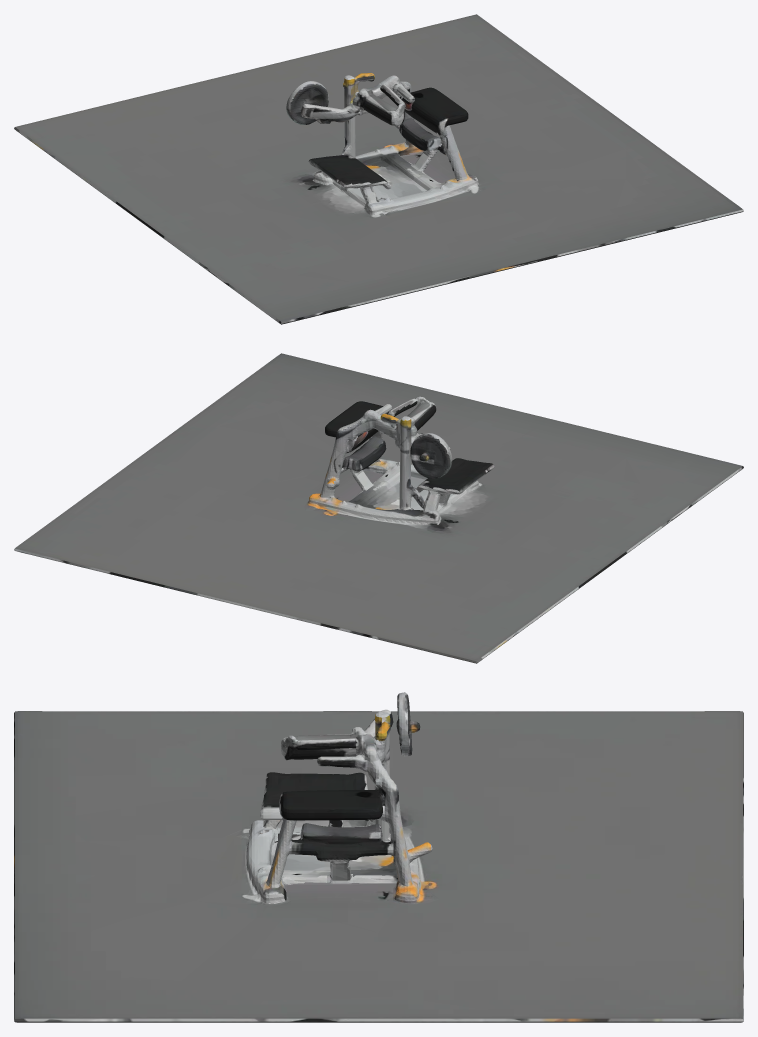
File: k1-matrix-mg-glute.glb
The picture shows the model from 3 angles, top to bottom: view 1: azimuth 30°, elevation 25°; view 2: azimuth 150°, elevation 25°; view 3: azimuth 270°, elevation 25°; orthographic projection. The views are drawn at different scales.
Visible parts, largest first — view 1: demo_textured.obj; view 2: demo_textured.obj; view 3: demo_textured.obj.
Boxes of the visible parts, <box> form: demo_textured.obj: <box>14,14,743,324</box>; demo_textured.obj: <box>14,353,743,663</box>; demo_textured.obj: <box>14,692,743,1022</box>.
Size of the model in its own units: 1.99 by 0.4135 by 1.99.
Materials: 1 (1 with a texture image).
